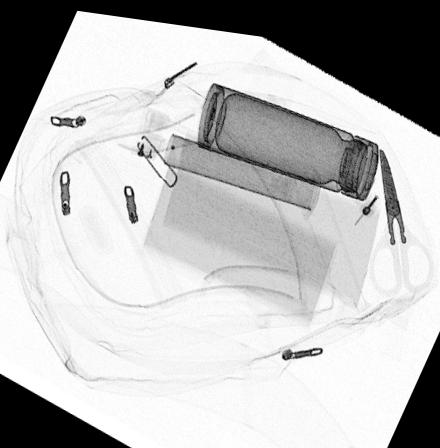Scissors: (365, 129, 436, 289)
